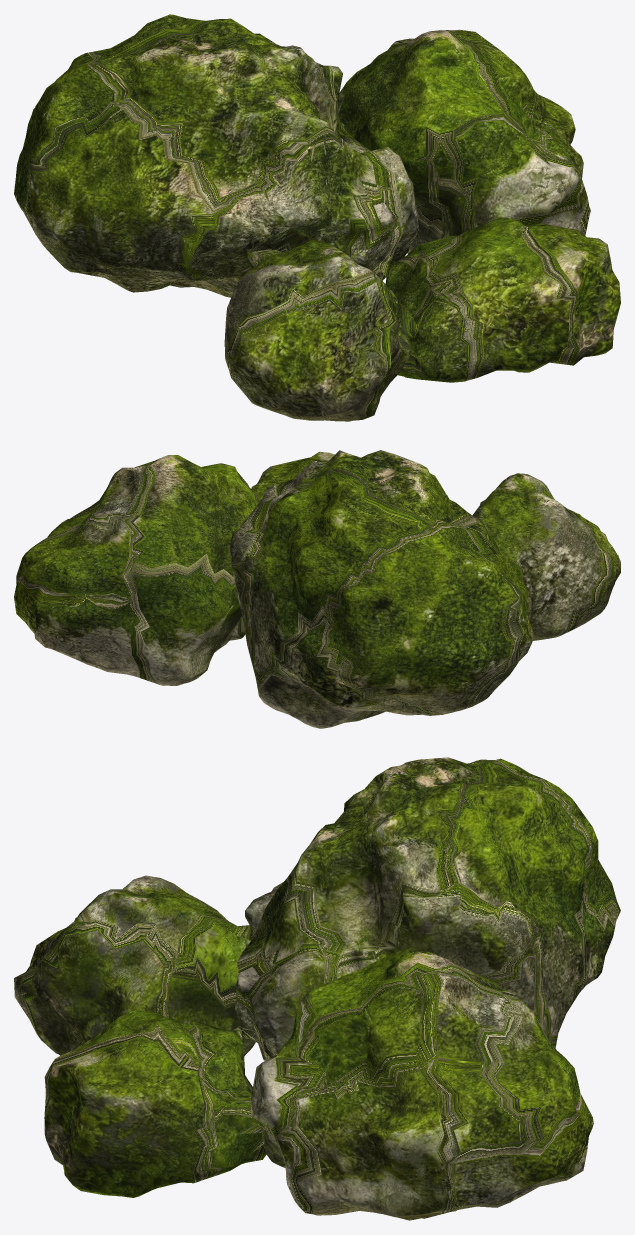
File: mossy-rocks.glb
3 renders of one model, top to bottom at view 1: azimuth 30°, elevation 25°; view 2: azimuth 150°, elevation 25°; view 3: azimuth 270°, elevation 25°, orthographic. The views are drawn at different scales.
Parts seen in each view (by area): view 1: mesh_node; view 2: mesh_node; view 3: mesh_node.
Boxes of the visible parts, bbox=[...] form: mesh_node: bbox=[14, 14, 620, 421]; mesh_node: bbox=[14, 450, 620, 728]; mesh_node: bbox=[14, 757, 620, 1220].
Size of the model in its own units: 1.89 by 0.923 by 1.73.
1 material, 1 textured.
